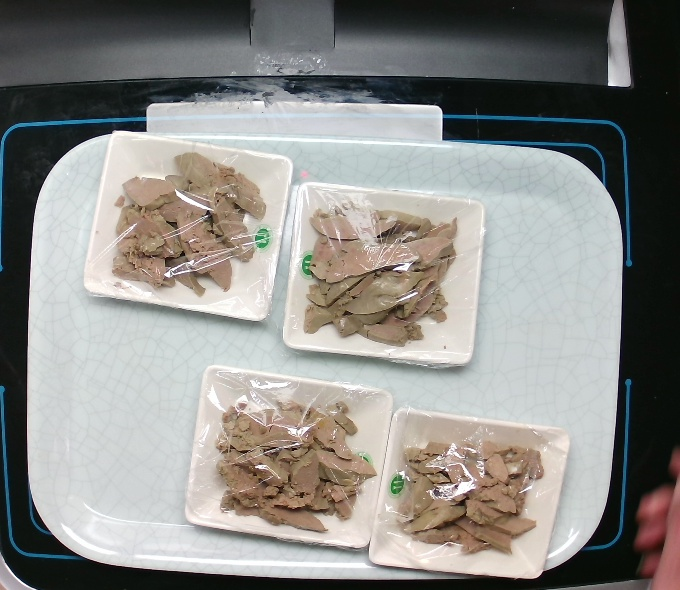wcq-EGan: (299, 196, 468, 350), (209, 391, 379, 538), (109, 147, 268, 299), (391, 432, 551, 558)
